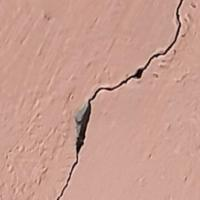crack: (53, 4, 188, 199)
